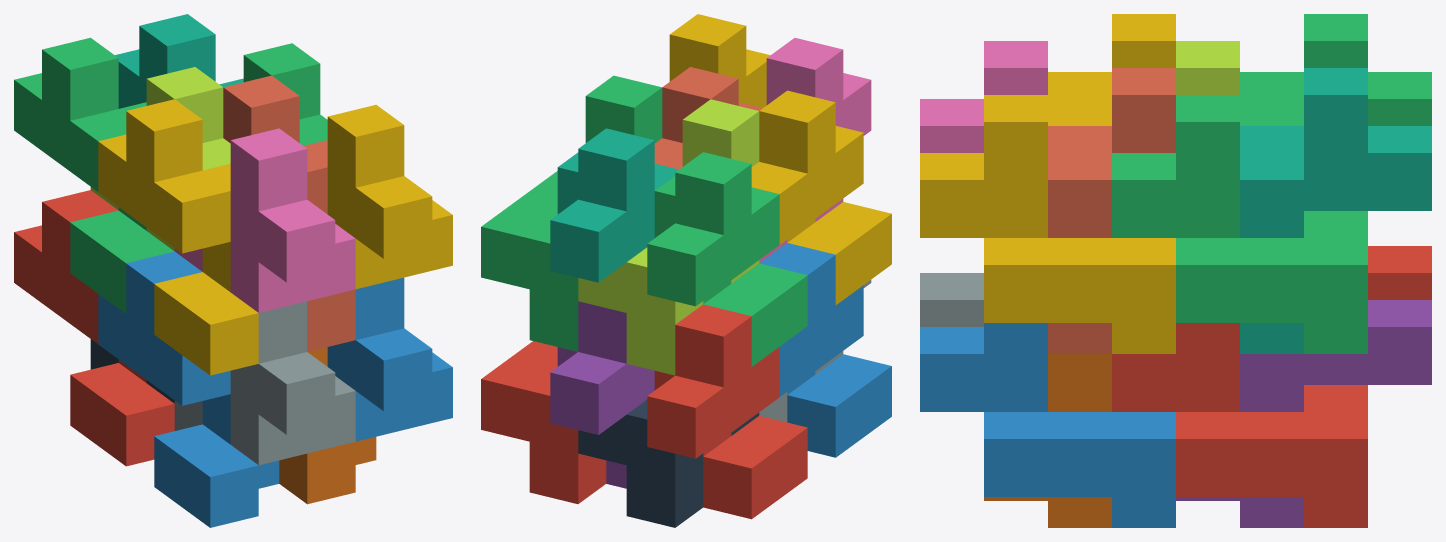
Rendered from tiling.obj.
3 views of the same model, side by side, from view 1: azimuth 30°, elevation 25°; view 2: azimuth 150°, elevation 25°; view 3: azimuth 270°, elevation 25° (orthographic). The views are drawn at different scales.
Visible parts, largest first — view 1: copy_1_domain_4, copy_1_domain_2, copy_2_domain_4, copy_1_domain_3, copy_2_domain_8, copy_1_domain_1, copy_2_domain_2, copy_2_domain_6, copy_1_domain_8, copy_1_domain_7, copy_1_domain_6, copy_2_domain_3 (+2 smaller); view 2: copy_1_domain_1, copy_1_domain_3, copy_1_domain_4, copy_1_domain_2, copy_2_domain_7, copy_1_domain_7, copy_2_domain_3, copy_2_domain_5, copy_1_domain_5, copy_2_domain_1, copy_2_domain_4, copy_2_domain_8 (+2 smaller); view 3: copy_2_domain_7, copy_2_domain_8, copy_2_domain_5, copy_2_domain_6, copy_1_domain_7, copy_1_domain_8, copy_1_domain_5, copy_1_domain_3, copy_1_domain_4, copy_2_domain_4, copy_1_domain_6, copy_1_domain_1 (+2 smaller).
Boxes of the visible parts, left/top/right/bottom form: copy_1_domain_4: left=98, top=99, right=258, bottom=375; copy_1_domain_2: left=98, top=251, right=279, bottom=527; copy_2_domain_4: left=174, top=128, right=355, bottom=312; copy_1_domain_3: left=14, top=37, right=174, bottom=313; copy_2_domain_8: left=327, top=104, right=452, bottom=289; copy_1_domain_1: left=14, top=190, right=174, bottom=466; copy_2_domain_2: left=174, top=301, right=355, bottom=465; copy_2_domain_6: left=327, top=277, right=452, bottom=441; copy_1_domain_8: left=223, top=75, right=355, bottom=351; copy_1_domain_7: left=115, top=14, right=243, bottom=108; copy_1_domain_6: left=279, top=347, right=376, bottom=504; copy_2_domain_3: left=90, top=67, right=230, bottom=250; copy_1_domain_1: left=647, top=304, right=807, bottom=519; copy_1_domain_3: left=647, top=152, right=807, bottom=366; copy_1_domain_4: left=751, top=90, right=891, bottom=304; copy_1_domain_2: left=759, top=243, right=891, bottom=457; copy_2_domain_7: left=481, top=75, right=662, bottom=351; copy_1_domain_7: left=550, top=128, right=678, bottom=282; copy_2_domain_3: left=578, top=99, right=759, bottom=375; copy_2_domain_5: left=481, top=341, right=606, bottom=503; copy_1_domain_5: left=550, top=301, right=654, bottom=488; copy_2_domain_1: left=578, top=400, right=759, bottom=527; copy_2_domain_4: left=759, top=38, right=871, bottom=262; copy_2_domain_8: left=669, top=14, right=770, bottom=107; copy_2_domain_7: left=1112, top=95, right=1367, bottom=353; copy_2_domain_8: left=920, top=95, right=1175, bottom=353; copy_2_domain_5: left=1112, top=323, right=1367, bottom=527; copy_2_domain_6: left=920, top=323, right=1175, bottom=527; copy_1_domain_7: left=1240, top=68, right=1431, bottom=353; copy_1_domain_8: left=1048, top=68, right=1175, bottom=353; copy_1_domain_5: left=1176, top=300, right=1431, bottom=527; copy_1_domain_3: left=1240, top=14, right=1431, bottom=125; copy_1_domain_4: left=1048, top=14, right=1175, bottom=125; copy_2_domain_4: left=920, top=41, right=1047, bottom=152; copy_1_domain_6: left=984, top=354, right=1111, bottom=527; copy_1_domain_1: left=1368, top=246, right=1431, bottom=299.
Size of the model in its own units: 5 by 7 by 8.
